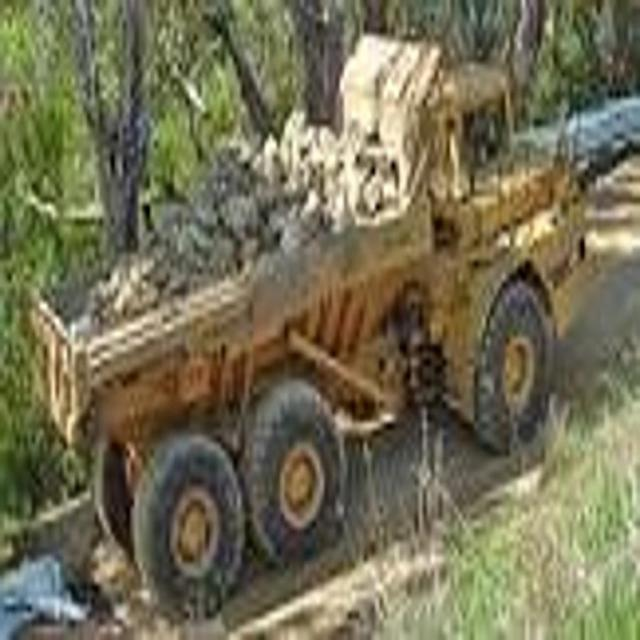dump_truck: (25, 20, 580, 628)
